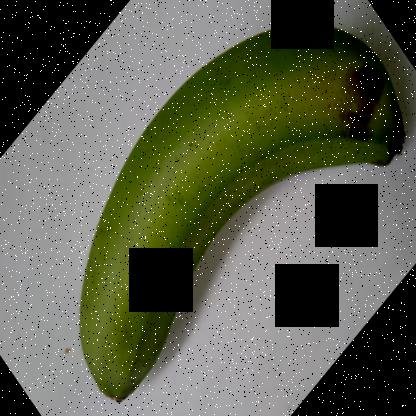freshunripe: (72, 8, 415, 415)
